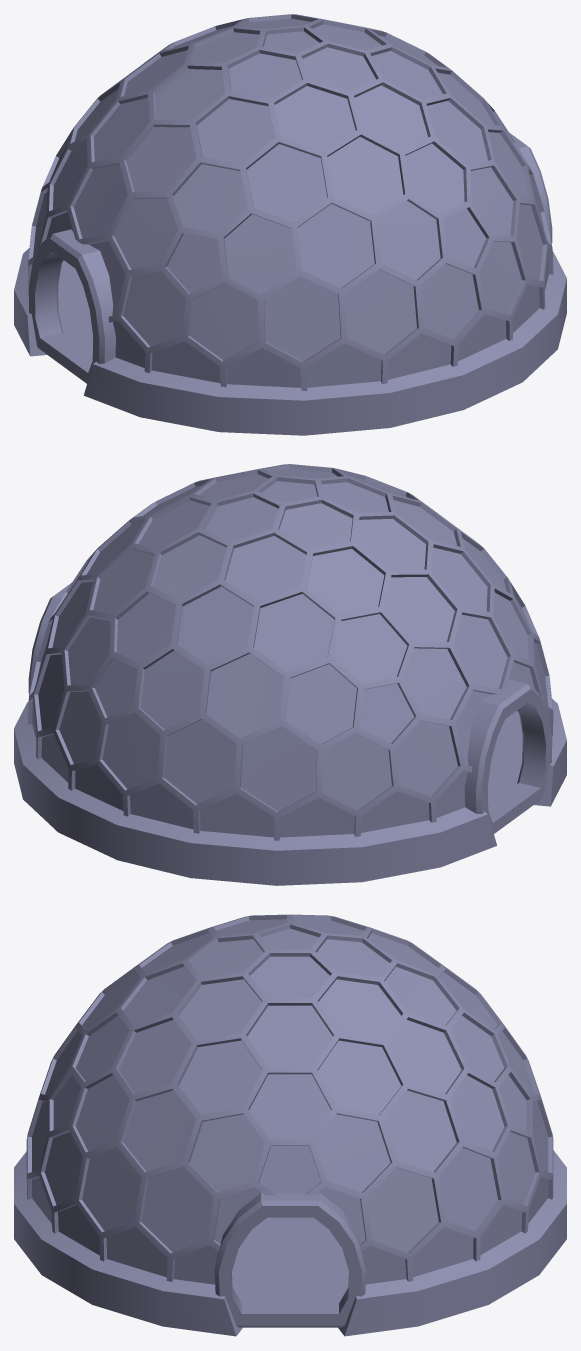
Rendered from building_dome_two_inputs.fbx.
3 views of the same model, one above another, from view 1: azimuth 30°, elevation 25°; view 2: azimuth 150°, elevation 25°; view 3: azimuth 270°, elevation 25° (orthographic).
Visible parts, largest first — view 1: building_dome_two_inputs_glass, building_dome_two_inputs; view 2: building_dome_two_inputs_glass, building_dome_two_inputs; view 3: building_dome_two_inputs_glass, building_dome_two_inputs.
Part boxes in pixels (x1,y1,x2,y2): building_dome_two_inputs_glass: (33, 18, 548, 387); building_dome_two_inputs: (14, 14, 566, 435); building_dome_two_inputs_glass: (32, 468, 548, 837); building_dome_two_inputs: (14, 464, 566, 885); building_dome_two_inputs_glass: (32, 919, 548, 1284); building_dome_two_inputs: (14, 914, 566, 1336).
Bounding box in the file's own units: 665 × 380 × 673.
